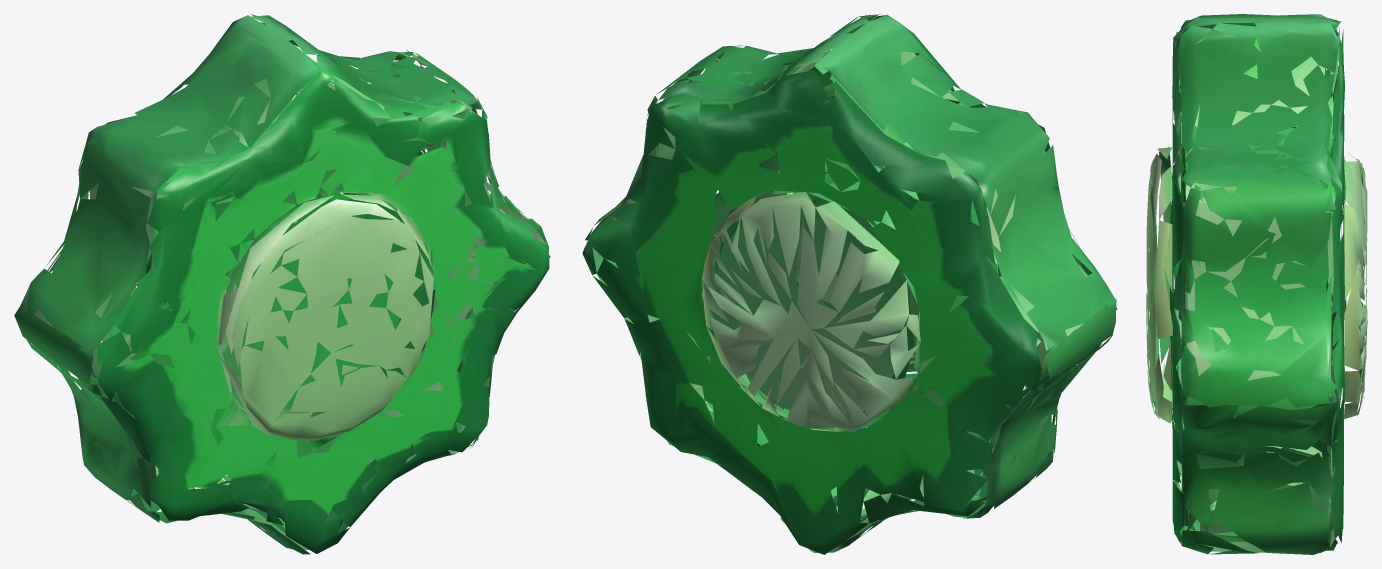
Rendered from cactus.glb.
3 renders of one model, left to right at view 1: azimuth 30°, elevation 25°; view 2: azimuth 150°, elevation 25°; view 3: azimuth 270°, elevation 25°, orthographic. The views are drawn at different scales.
Size of the model in its own units: 0.0802 by 0.0801 by 0.0307.
Materials: 1 (1 with a texture image).
